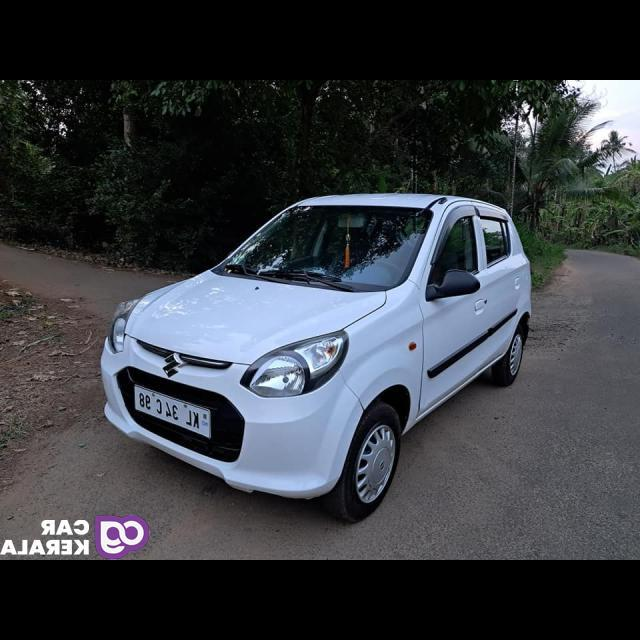vehicles: (106, 193, 530, 522)
